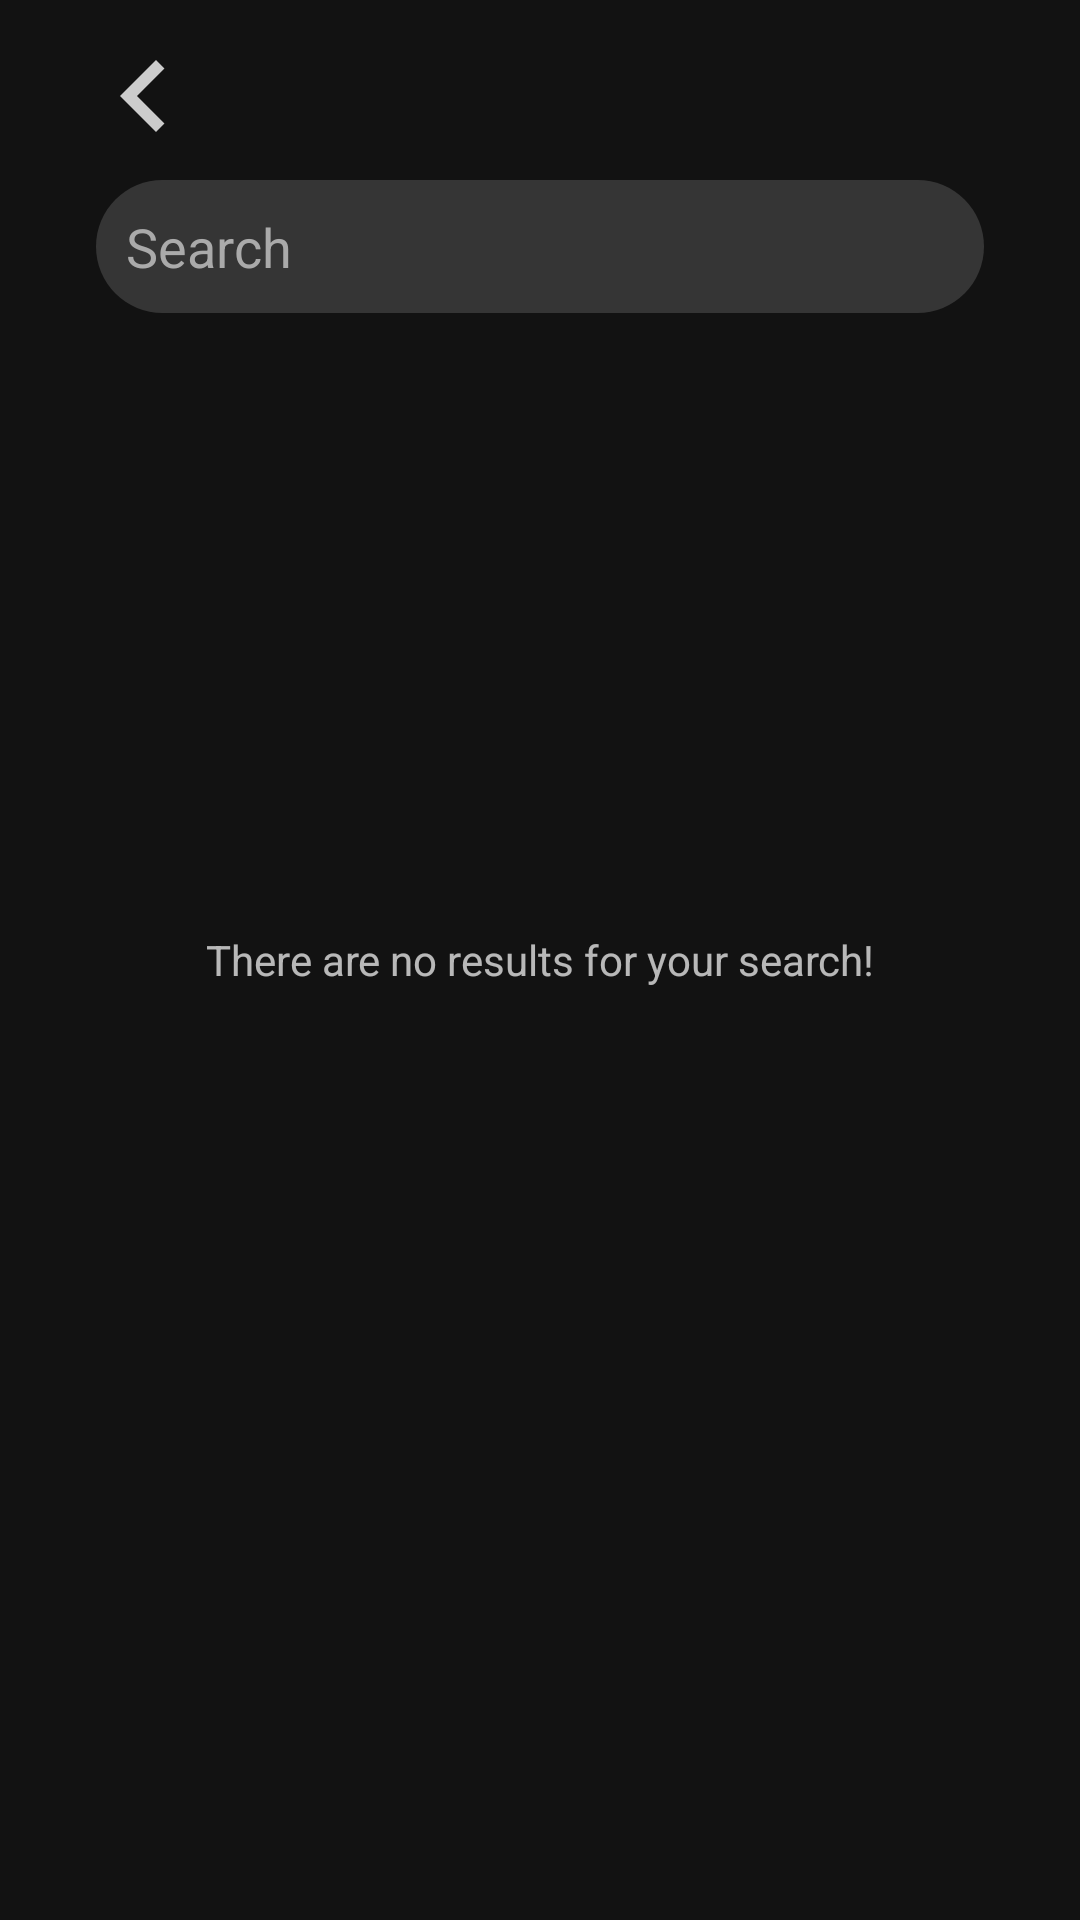

Locate icon controls on the screen. Image size 1080px×1920px, boxes as rect(x1, y1, x2, y2).
back arrow: rect(120, 60, 165, 132)
